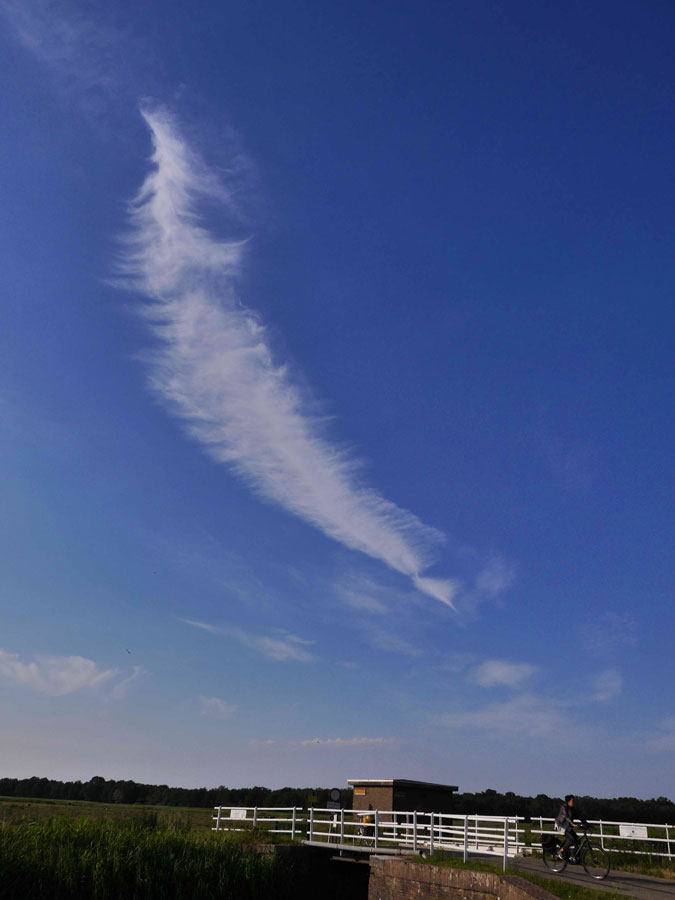Cirrus: (84, 50, 523, 632)
